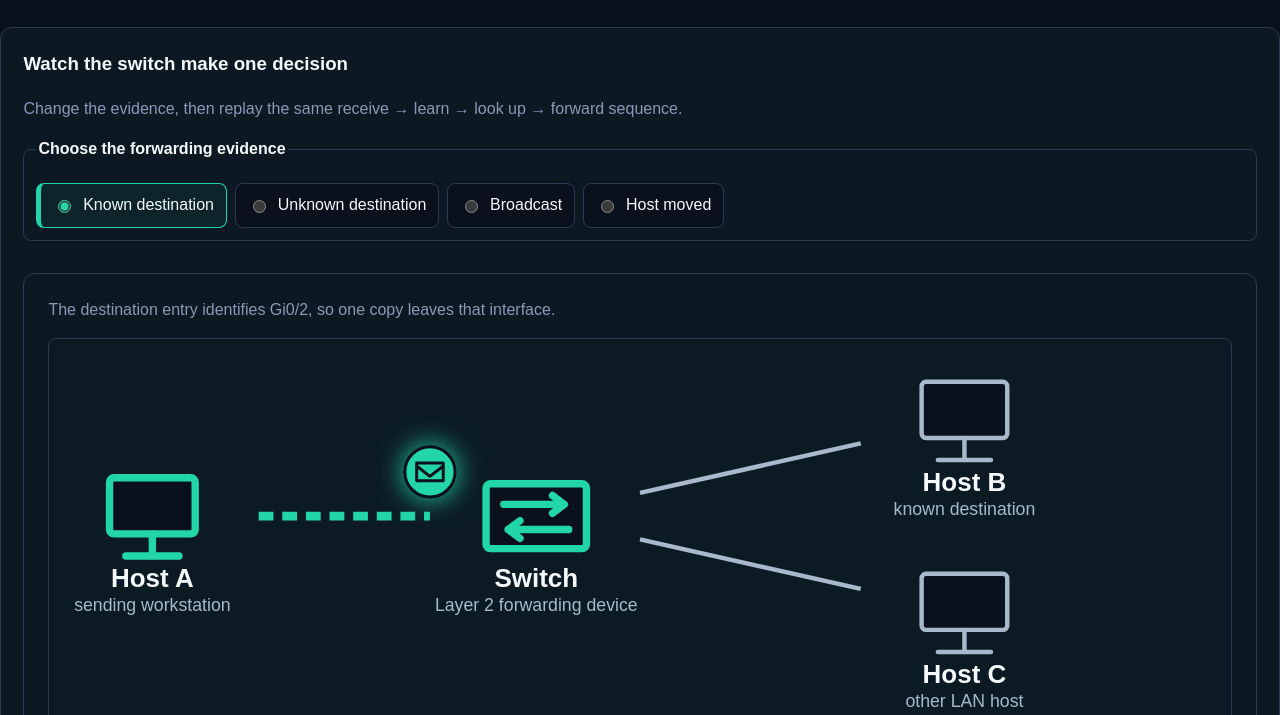
Scenario: SwitchLearningPlayer › restarts the explanation for unknown, broadcast, and moved-host decisions
Click the radio button labelled "Unknown destination" at (260, 207), box [253,200,266,213]
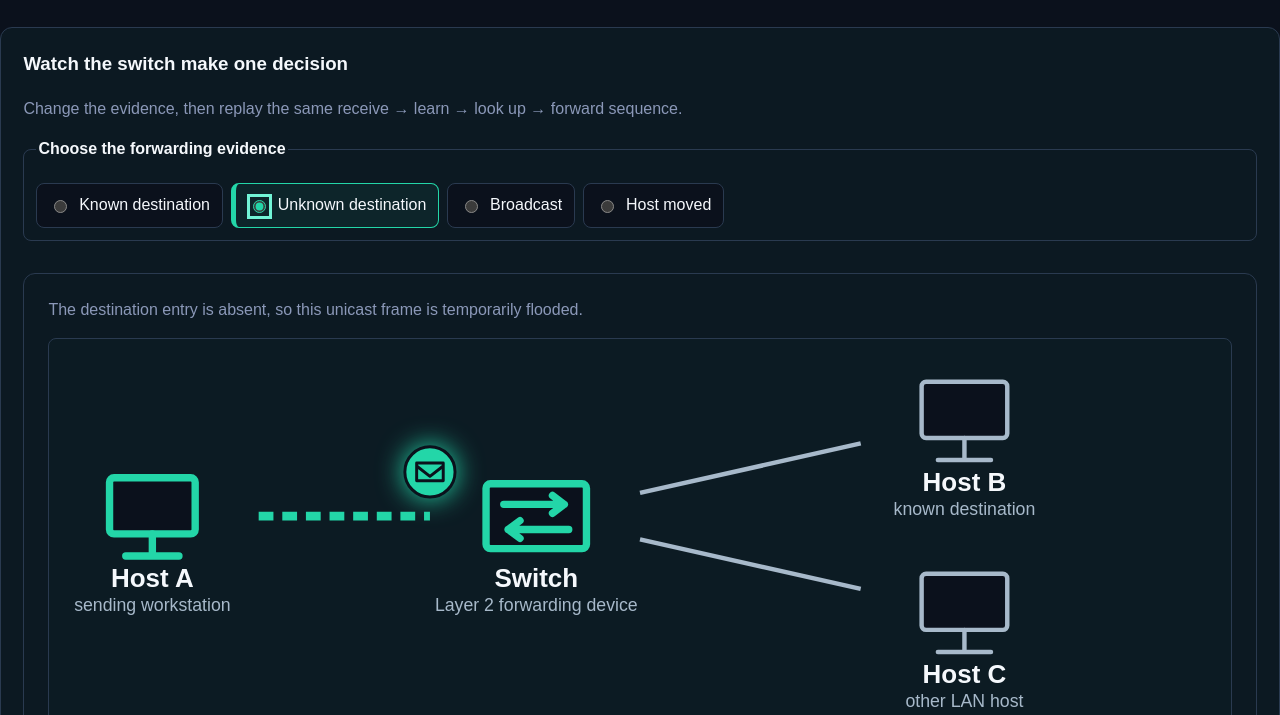
Check: the text "destination entry is absent" is shown, box [48,301,583,318]
Click the radio button labelled "Broadcast" at (472, 207), box [465,200,478,213]
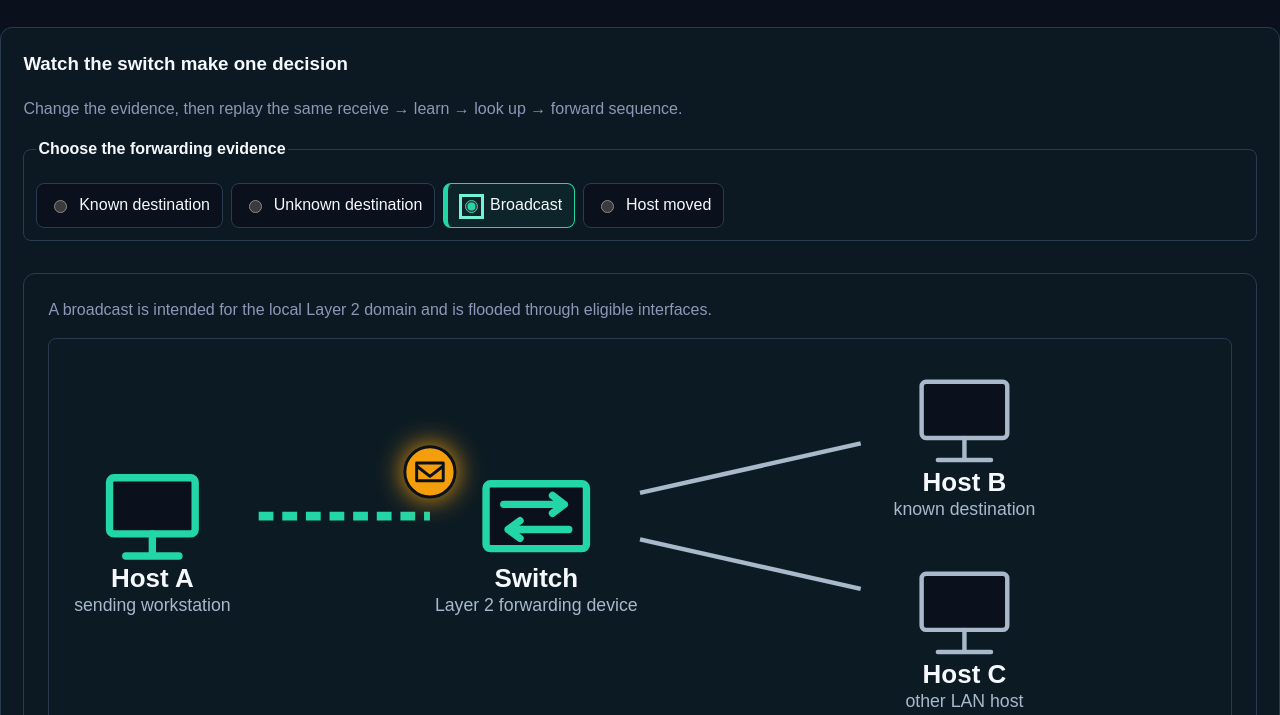
Click the radio button labelled "Host moved" at (608, 207), box [601,200,614,213]
(page scrolled)
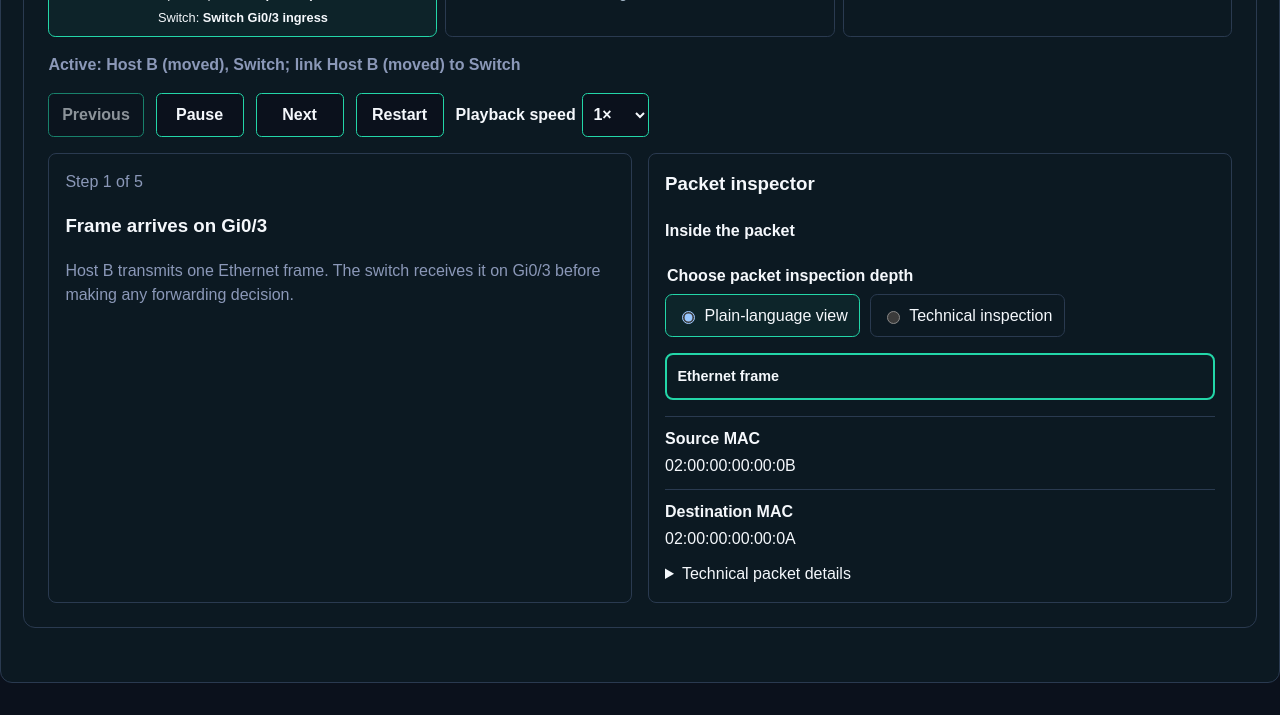
Check: the text "Switch Gi0/3 ingress" is shown, box [203,10,328,25]
Check: the text "02:00:00:00:00:0B" is shown, box [665,457,796,474]
